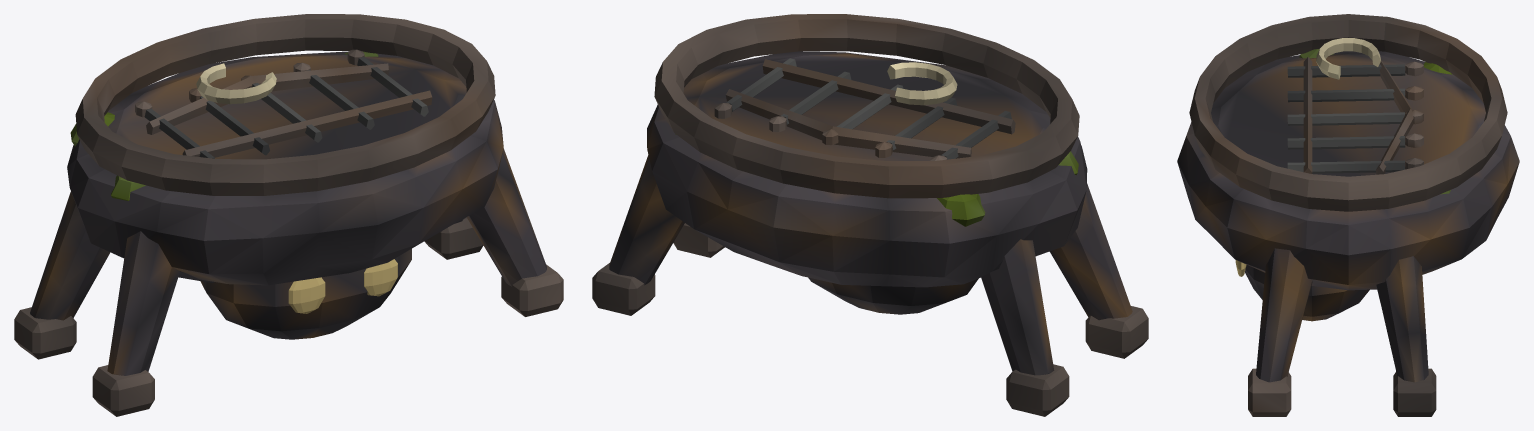
Rendered from coin_crawler.fbx.
The picture shows the model from 3 angles, left to right: view 1: azimuth 30°, elevation 25°; view 2: azimuth 150°, elevation 25°; view 3: azimuth 270°, elevation 25°; orthographic projection. The views are drawn at different scales.
Parts seen in each view (by area): view 1: coin_crawler; view 2: coin_crawler; view 3: coin_crawler.
Boxes of the visible parts, x1,y1,x2,y2 form: coin_crawler: [14, 14, 563, 416]; coin_crawler: [592, 14, 1148, 416]; coin_crawler: [1177, 14, 1519, 416].
Size of the model in its own units: 5.8 by 3.2 by 4.1.
